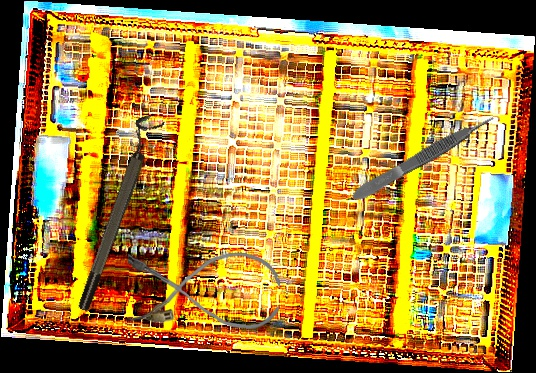Cannula: (125, 249, 282, 330)
Fixation Ring: (66, 111, 165, 314)
Tissue Forceps: (349, 111, 498, 205)
